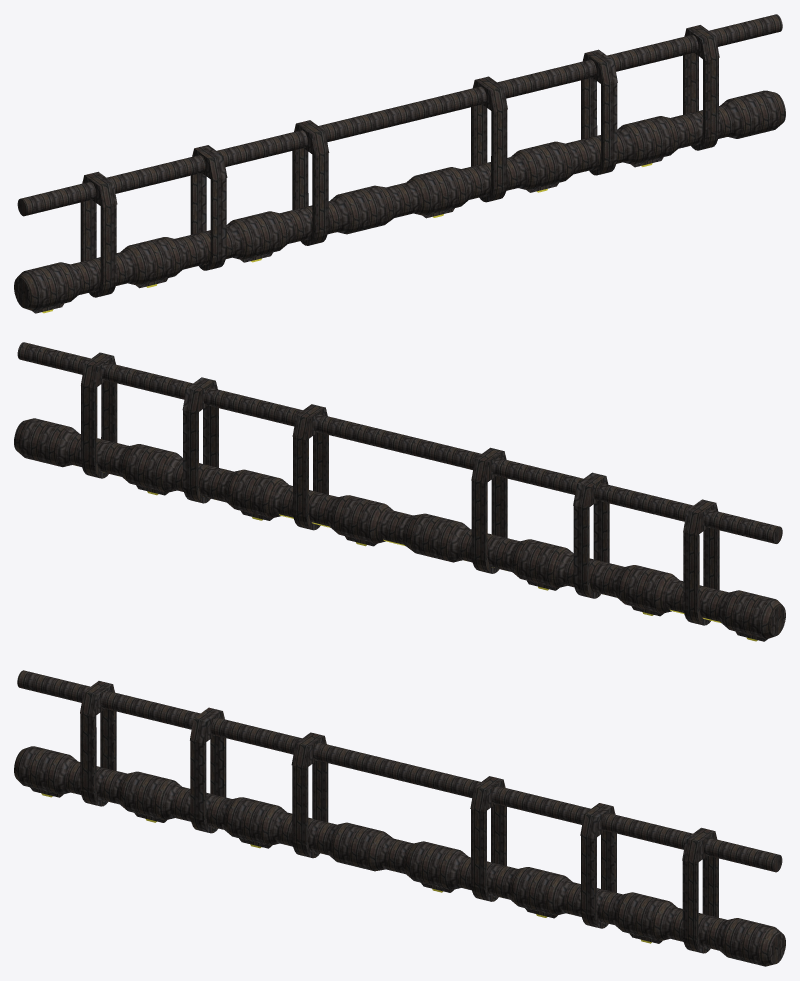
Rendered from GlowNeutral.fbx.
3 views of the same model, one above another, from view 1: azimuth 30°, elevation 25°; view 2: azimuth 150°, elevation 25°; view 3: azimuth 330°, elevation 25° (orthographic).
Parts seen in each view (by area): view 1: Object; view 2: Object; view 3: Object.
Part boxes in pixels (<box>): Object: <box>14,14,785,313</box>; Object: <box>14,342,785,641</box>; Object: <box>14,670,785,966</box>.
Bounding box in the file's own units: 16981 × 2588 × 894.
